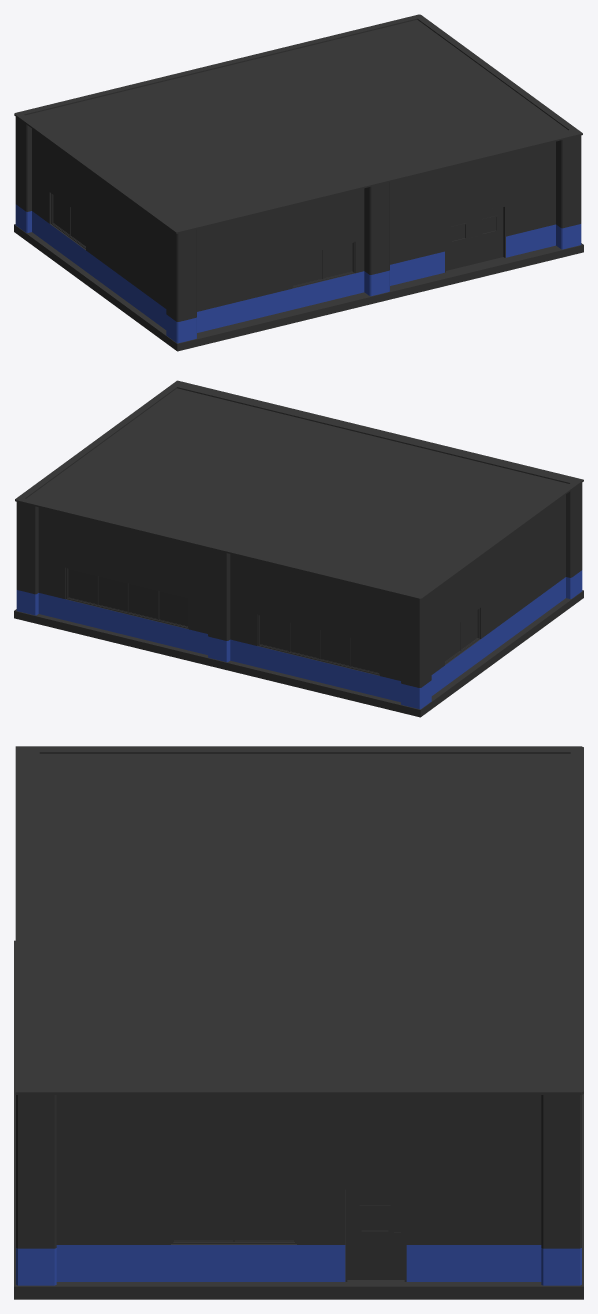
The model's file is FXB_ChangJing_New.FBX.
3 views of the same model, one above another, from view 1: azimuth 30°, elevation 25°; view 2: azimuth 150°, elevation 25°; view 3: azimuth 270°, elevation 25° (orthographic). The views are drawn at different scales.
Parts seen in each view (by area): view 1: che_changjing_new, fangding, che_changjing_dimian, Men_02; view 2: che_changjing_new, fangding, che_changjing_dimian; view 3: fangding, che_changjing_new, che_changjing_dimian, Men_01, MenKuang_01.
Boxes of the visible parts, left/top/right/bottom form: che_changjing_new: left=14, top=14, right=582, bottom=343; fangding: left=25, top=19, right=567, bottom=225; che_changjing_dimian: left=14, top=224, right=583, bottom=351; Men_02: left=446, top=207, right=503, bottom=270; che_changjing_new: left=15, top=380, right=583, bottom=709; fangding: left=26, top=388, right=568, bottom=594; che_changjing_dimian: left=14, top=590, right=583, bottom=717; fangding: left=39, top=754, right=570, bottom=1086; che_changjing_new: left=15, top=746, right=583, bottom=1285; che_changjing_dimian: left=14, top=940, right=583, bottom=1299; Men_01: left=347, top=1192, right=404, bottom=1279; MenKuang_01: left=345, top=1189, right=406, bottom=1281.
Size of the model in its own units: 2012 by 1399 by 561.
